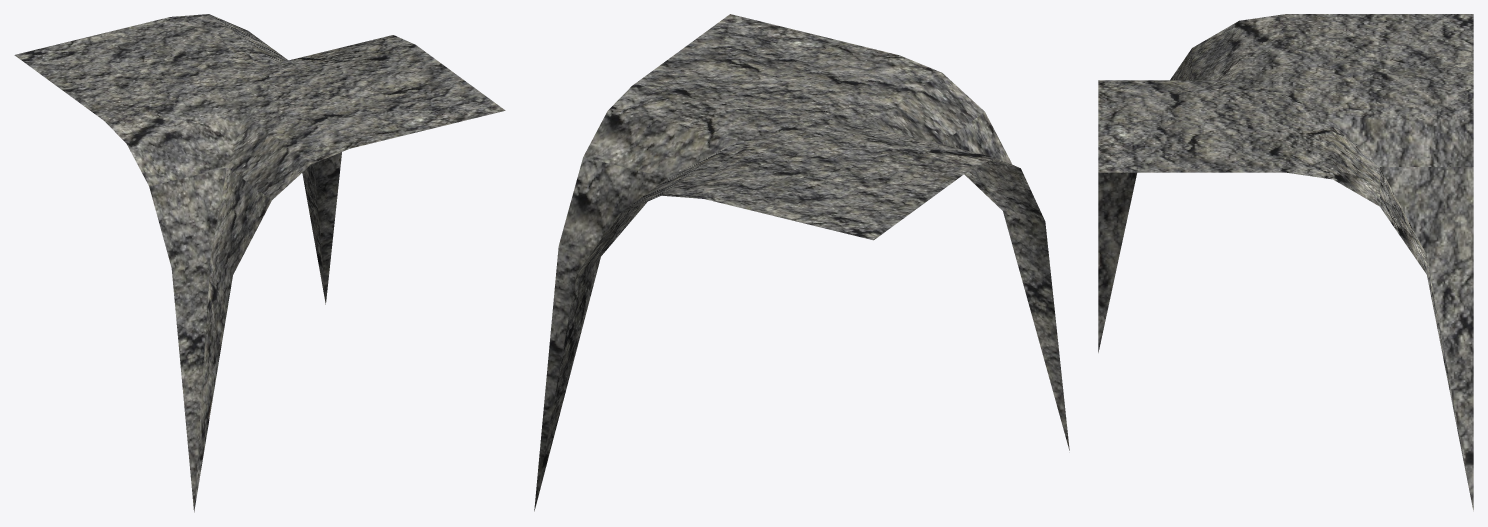
The model's file is Stone4d.obj.
3 views of the same model, side by side, from view 1: azimuth 30°, elevation 25°; view 2: azimuth 150°, elevation 25°; view 3: azimuth 270°, elevation 25° (orthographic). The views are drawn at different scales.
Visible parts, largest first — view 1: Grid_Grid.019_Grid_Grid.038; view 2: Grid_Grid.019_Grid_Grid.038; view 3: Grid_Grid.019_Grid_Grid.038.
Part boxes in pixels (x1,y1,x2,y2): Grid_Grid.019_Grid_Grid.038: (14,14,505,512); Grid_Grid.019_Grid_Grid.038: (534,14,1069,511); Grid_Grid.019_Grid_Grid.038: (1098,14,1473,511).
Size of the model in its own units: 1 by 1 by 1.
1 material, 1 textured.
